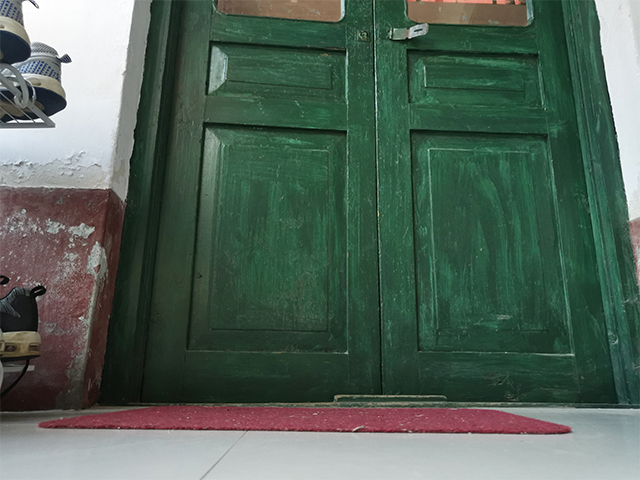carpet: (36, 404, 576, 436)
